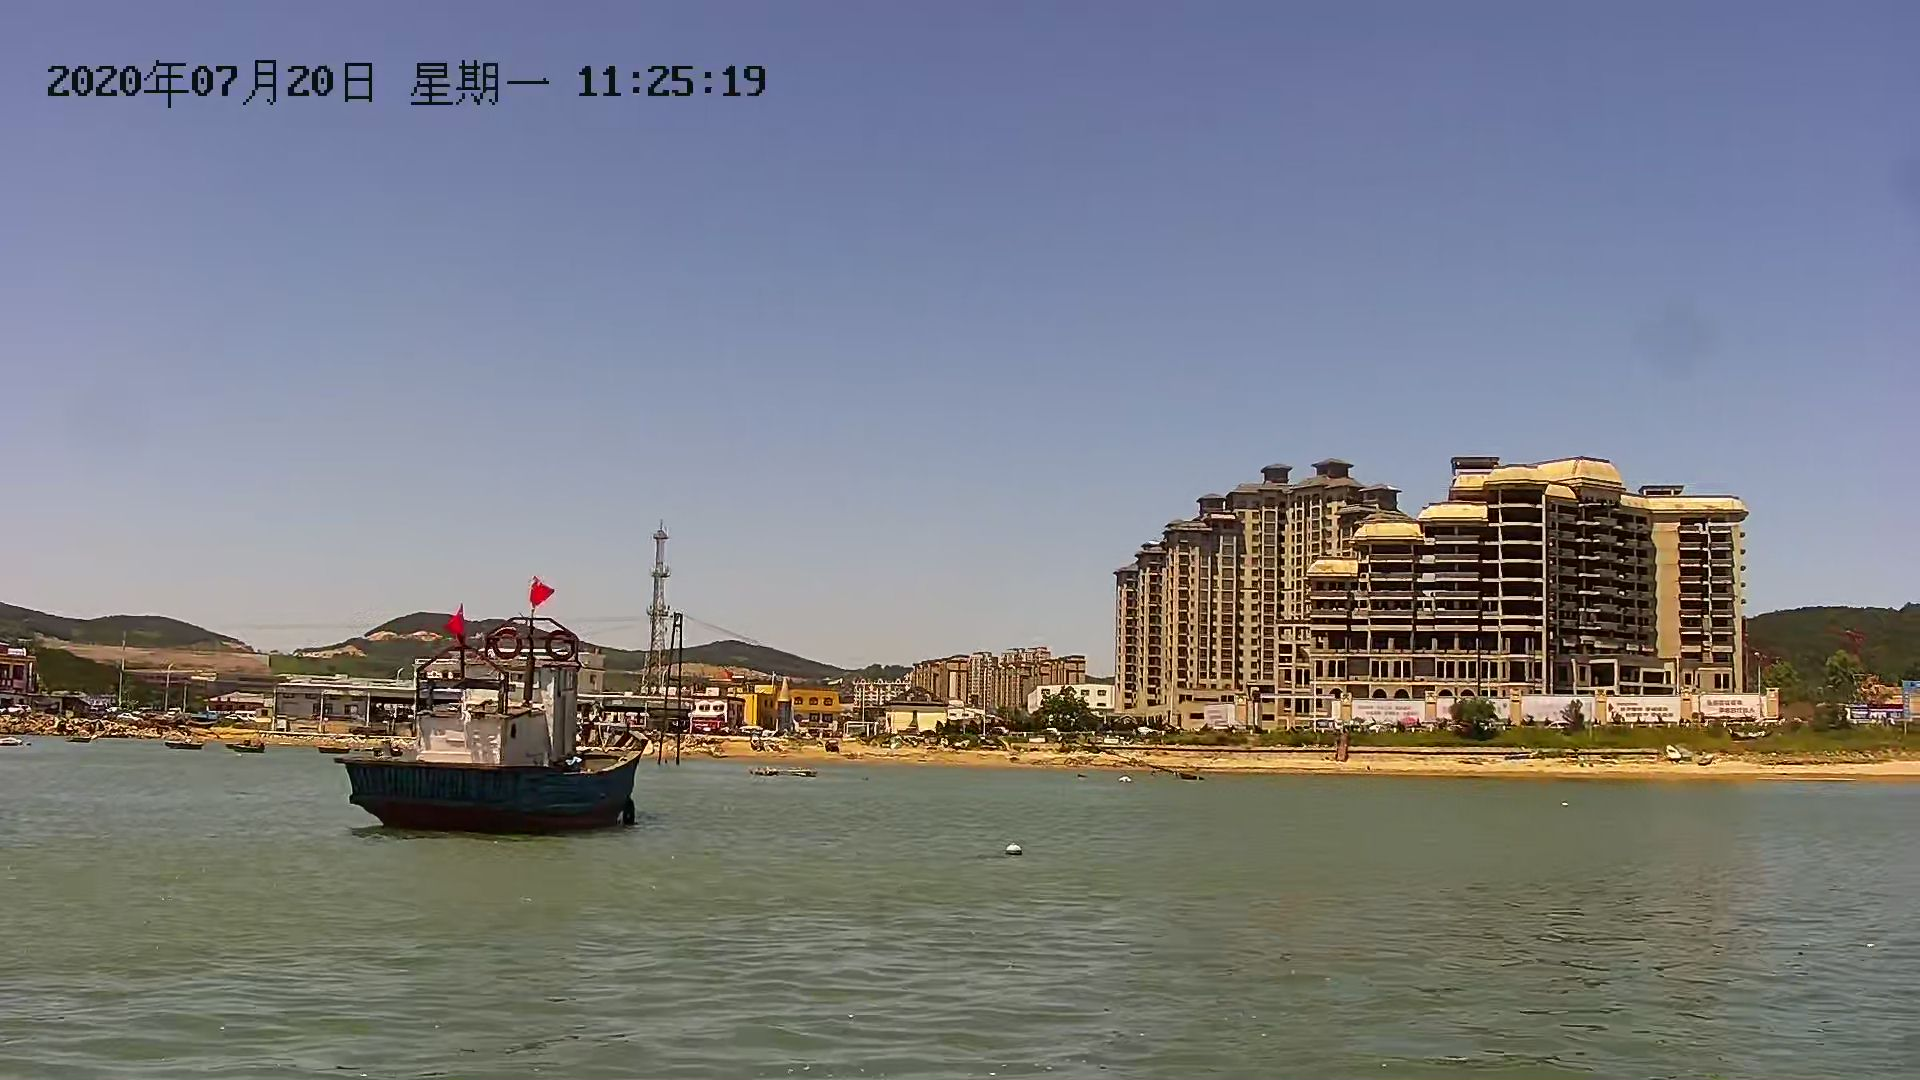ball: (1004, 841, 1033, 860)
boat: (332, 646, 655, 841)
